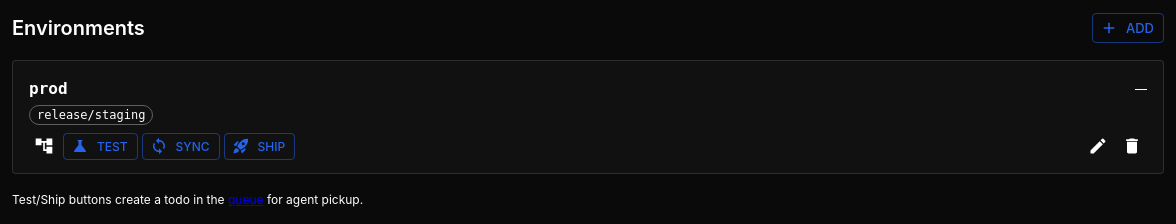
Environment delete inline confirm (TK-1567) › clicking Cancel reverts to delete IconButton without mutating
The image size is (1176, 224).
Step 1. Click the button with test id "env-delete-button" → (1132, 146), box [1117,131,1147,161]
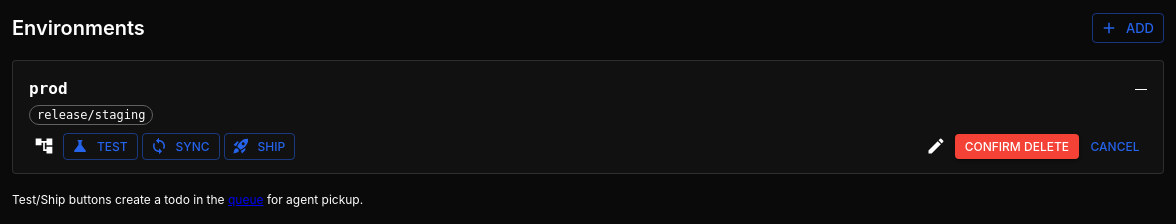
expect the button with test id "env-confirm-delete" is shown: met, box [955,134,1079,158]
Step 2. Click the button with test id "env-cancel-delete" → (1115, 146), box [1083,134,1147,158]
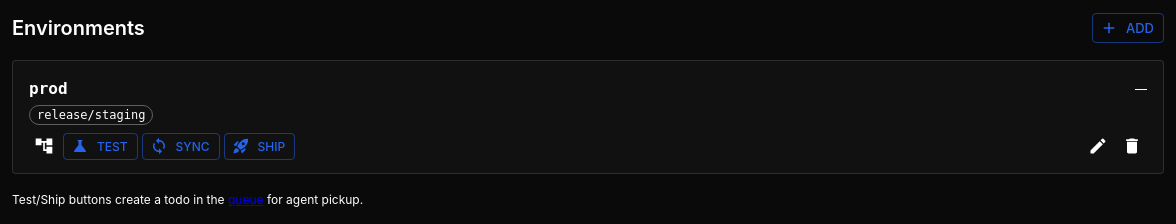
expect the button with test id "env-confirm-delete" is gone: met
expect the button with test id "env-delete-button" is shown: met, box [1117,131,1147,161]
